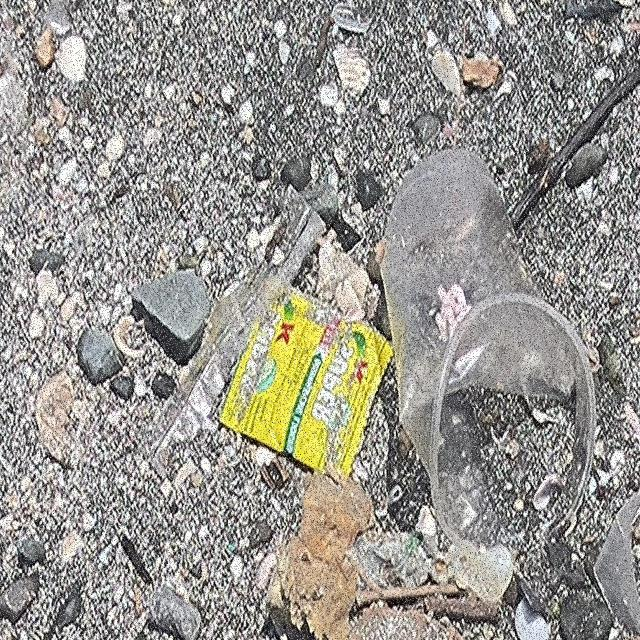plastic_waste: (378, 147, 598, 557), (219, 285, 395, 486)
